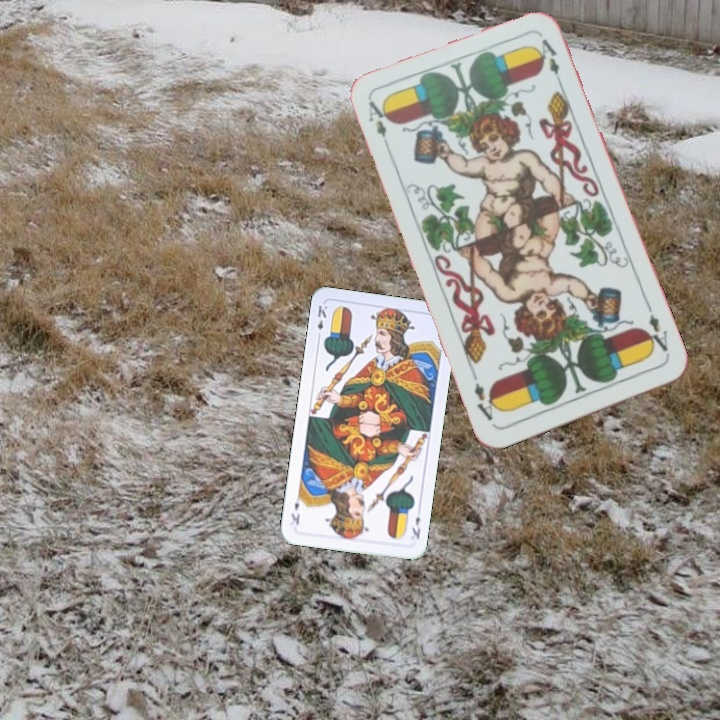EA: (641, 302, 673, 359), (364, 96, 394, 154)
EK: (313, 301, 330, 342), (408, 513, 423, 542)
